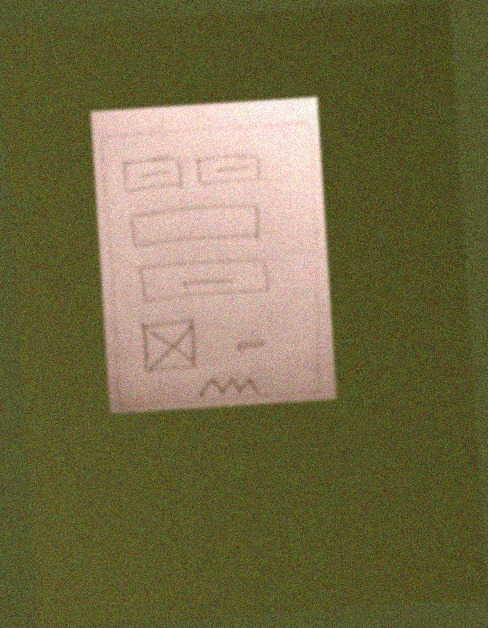button: (131, 253, 278, 307), (192, 148, 266, 190), (118, 153, 187, 195)
image: (136, 314, 207, 377)
switch: (231, 334, 269, 356)
text: (195, 373, 261, 399)
text_input: (120, 198, 272, 253)
